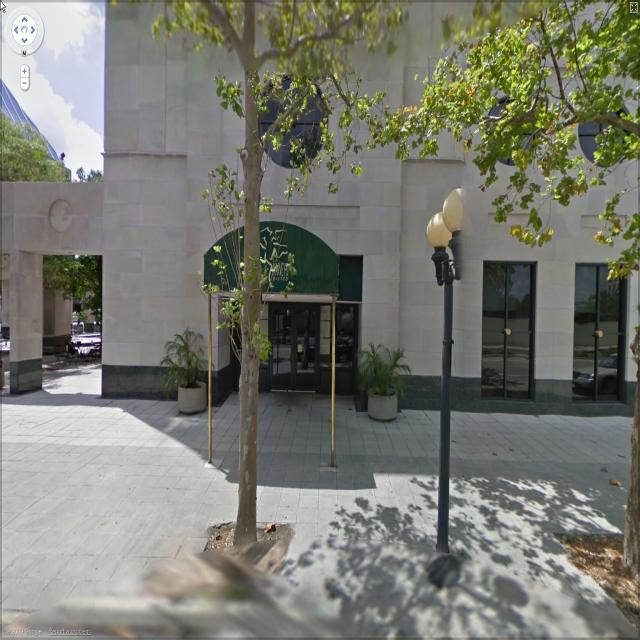b_2: (14, 1, 630, 437)
